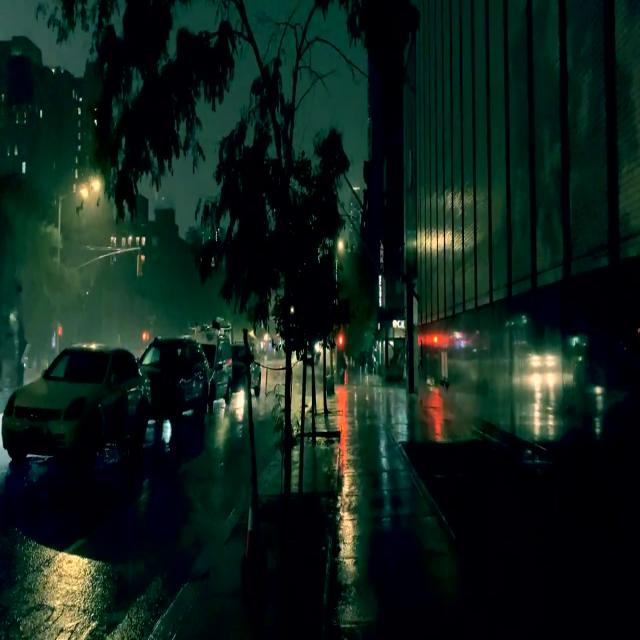Car: (5, 346, 147, 453), (140, 333, 209, 431)
